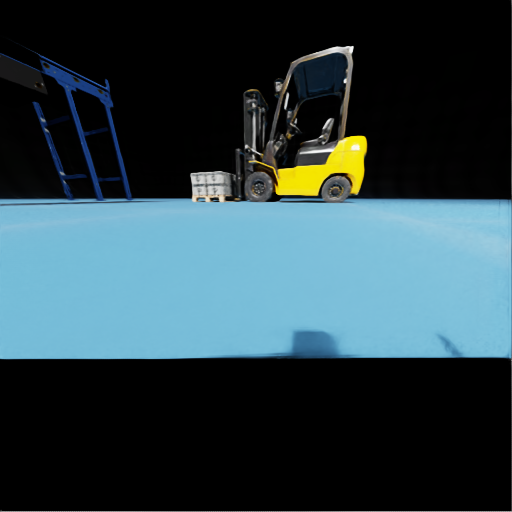transportation_area: (207, 184, 235, 194)
